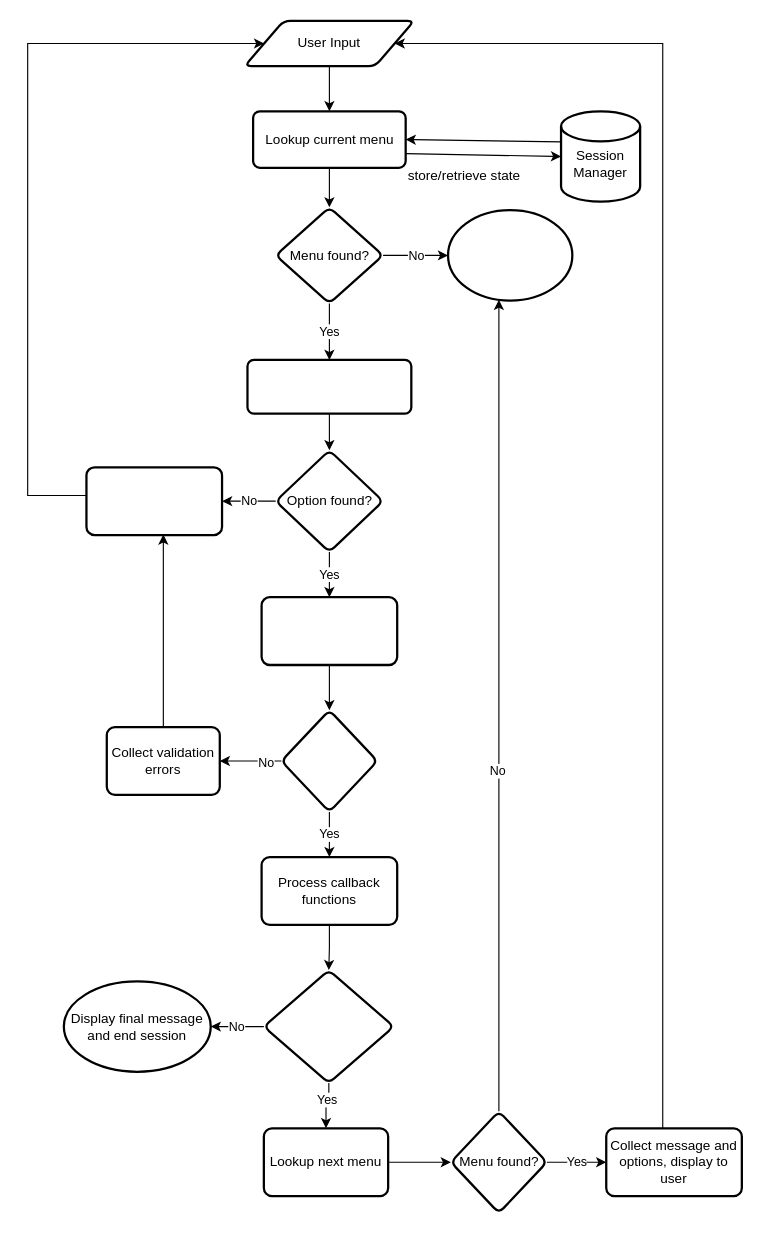
This 763x1233 diagram has some shape labels left out. Each missing label, with the centre of its shape:
"Input Valid?" belongs at [329,760].
"Lookup selection option" belongs at [329,386].
"Navigate ot next menu:" belongs at [328,1026].
"Redisplay message to user with error message (if any)" belongs at [154,501].
"Throw error and end" belongs at [509,254].
"Validate Input" belongs at [329,631].
